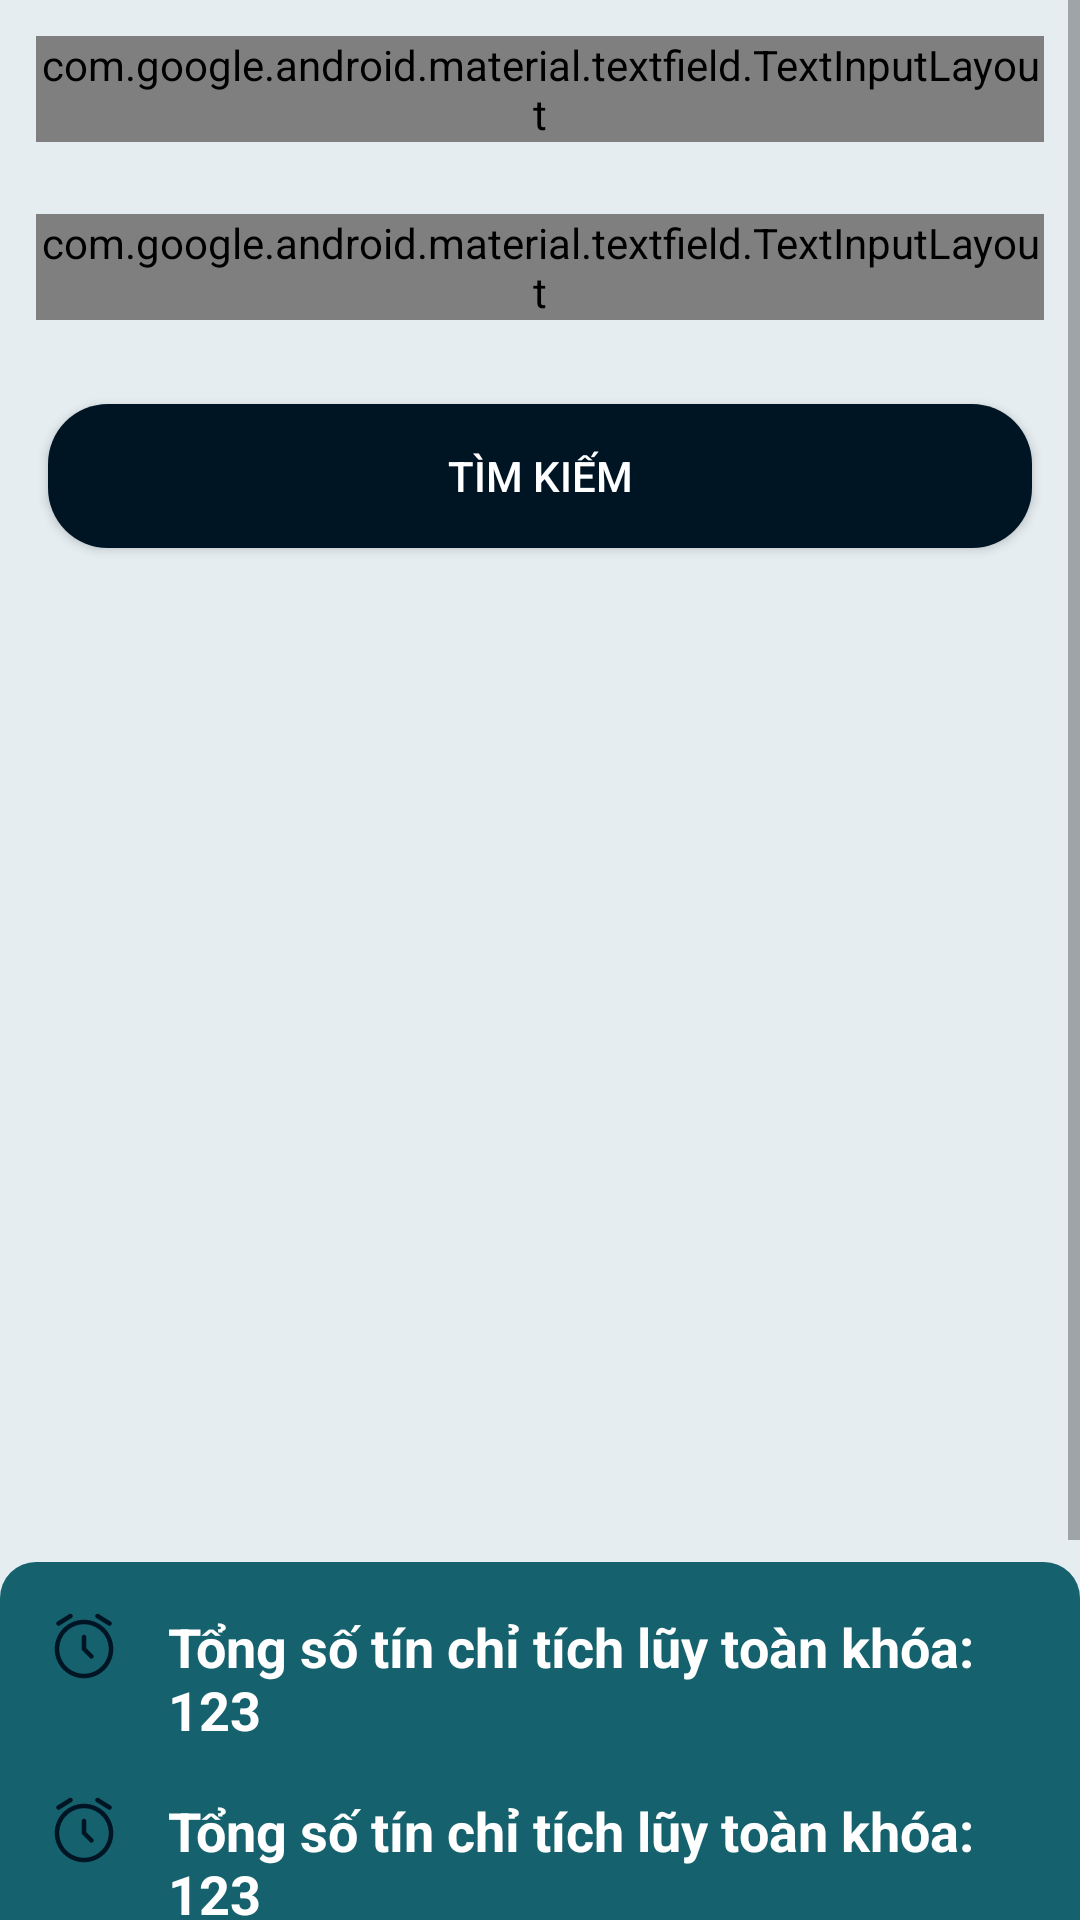

Screen size 1080w x 1920h. Icon name, then its box in pixels as region(x1, y1, x2, y2):
deadline: region(55, 1614, 113, 1678), region(55, 1798, 113, 1862)
